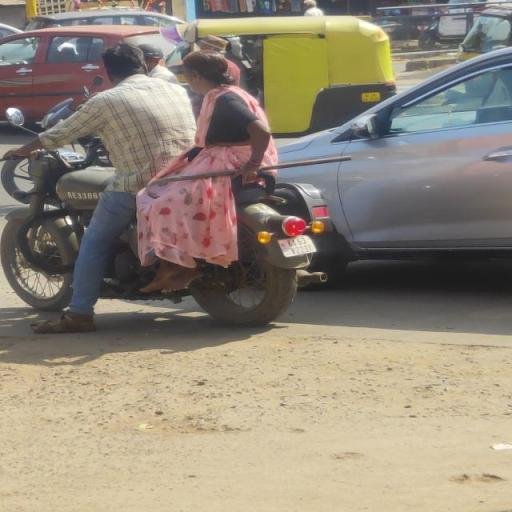bike: (4, 42, 330, 330)
numberplate: (276, 228, 320, 260)
withouthelmet: (185, 50, 226, 88), (104, 46, 146, 78)
